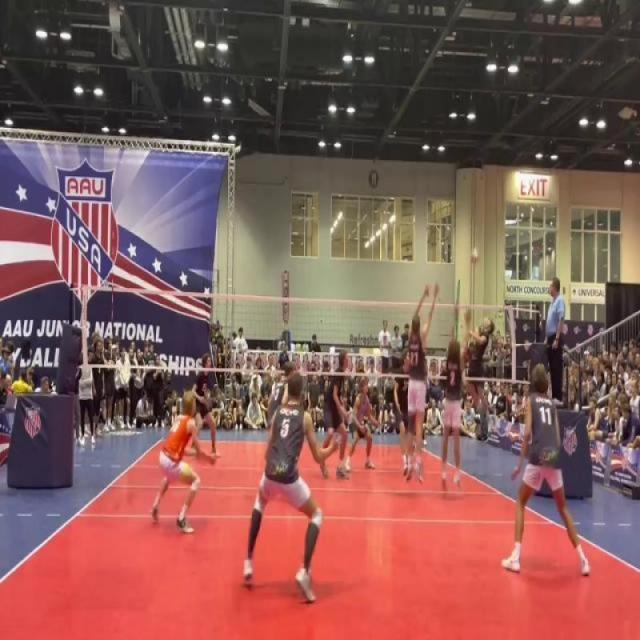volleyball: (468, 246, 479, 269)
